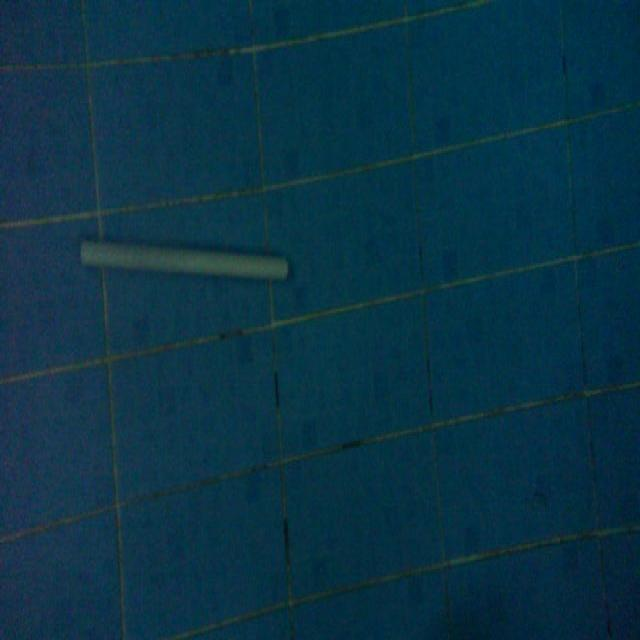Cube: (78, 231, 290, 286)
